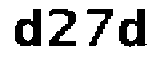2: (46, 5, 80, 54)
7: (83, 5, 115, 51)
d: (6, 4, 46, 50), (115, 6, 154, 52)
